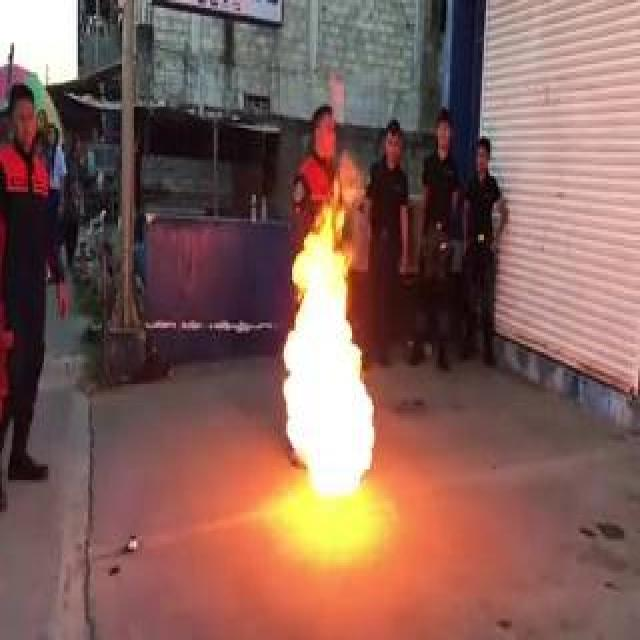Fire: (273, 193, 381, 511)
